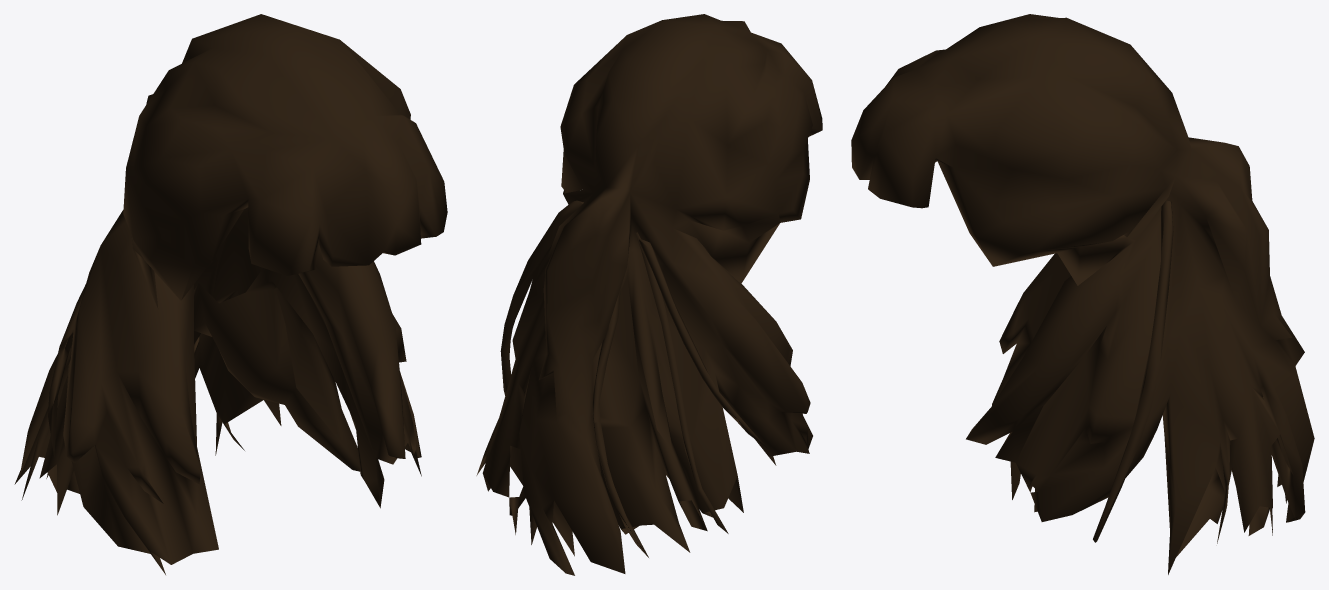
File: shorthair.fbx
3 views of the same model, side by side, from view 1: azimuth 30°, elevation 25°; view 2: azimuth 150°, elevation 25°; view 3: azimuth 270°, elevation 25° (orthographic). The views are drawn at different scales.
Visible parts, largest first — view 1: Wolf3D_Hair.007; view 2: Wolf3D_Hair.007; view 3: Wolf3D_Hair.007.
Part boxes in pixels (x1,y1,x2,y2): Wolf3D_Hair.007: (14, 14, 447, 574); Wolf3D_Hair.007: (476, 14, 822, 575); Wolf3D_Hair.007: (851, 14, 1314, 574).
Size of the model in its own units: 24.03 by 35.91 by 30.17.
1 material, 1 textured.
